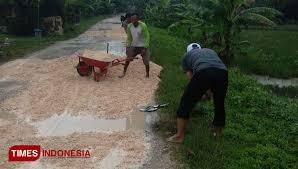Pothole: (22, 98, 159, 138), (43, 17, 121, 64), (84, 135, 171, 169), (0, 66, 22, 100)
